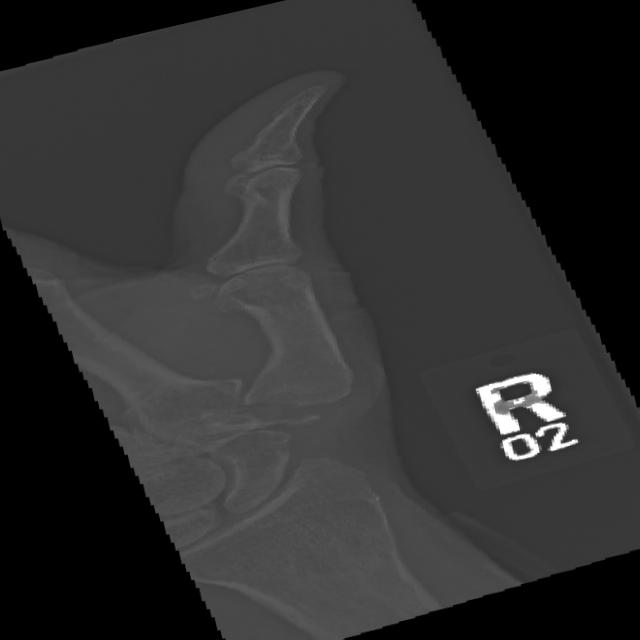fingers positive: (200, 122, 319, 180)
